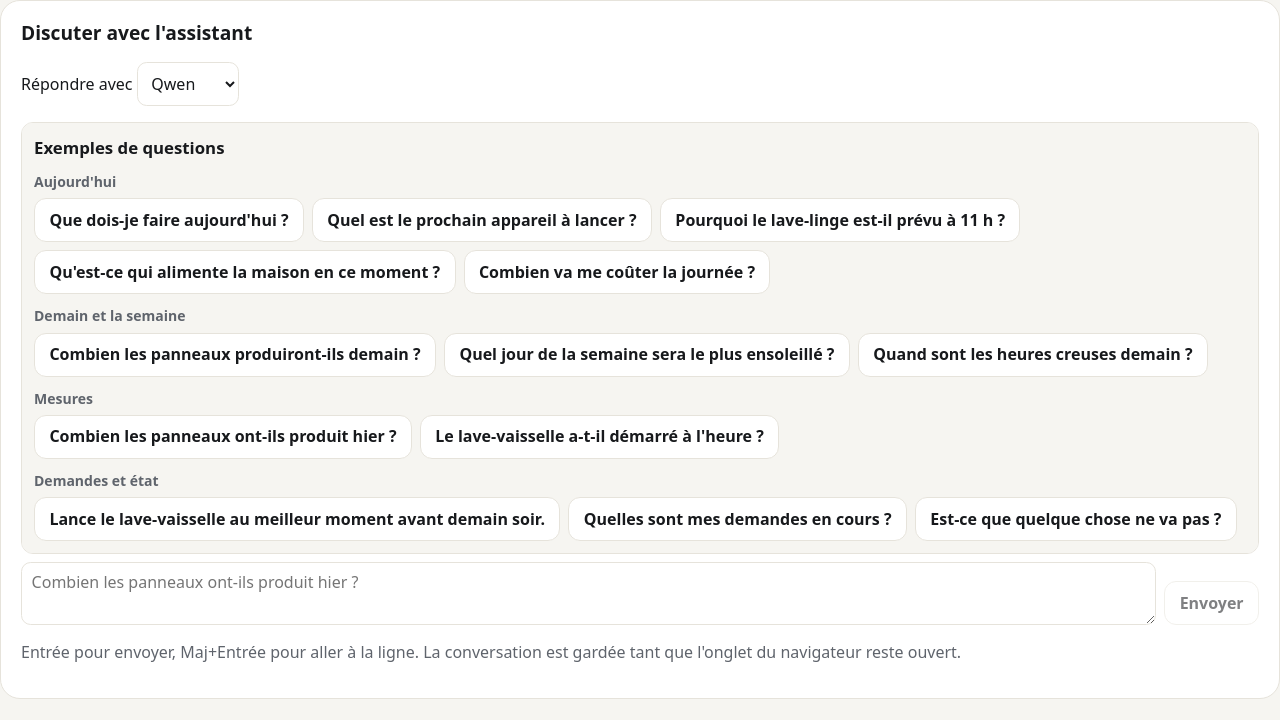
Test: discussion avec l'assistant › sans Home Assistant, Open WebUI reste possible
(page scrolled)
Check: the dropdown labelled "Répondre avec" shows "Qwen", box [137, 62, 239, 106]
Type "Bonjour" into the text box named "Votre message".
click(589, 594); type("Bonjour")  # box [21, 562, 1156, 625]
Then press Enter
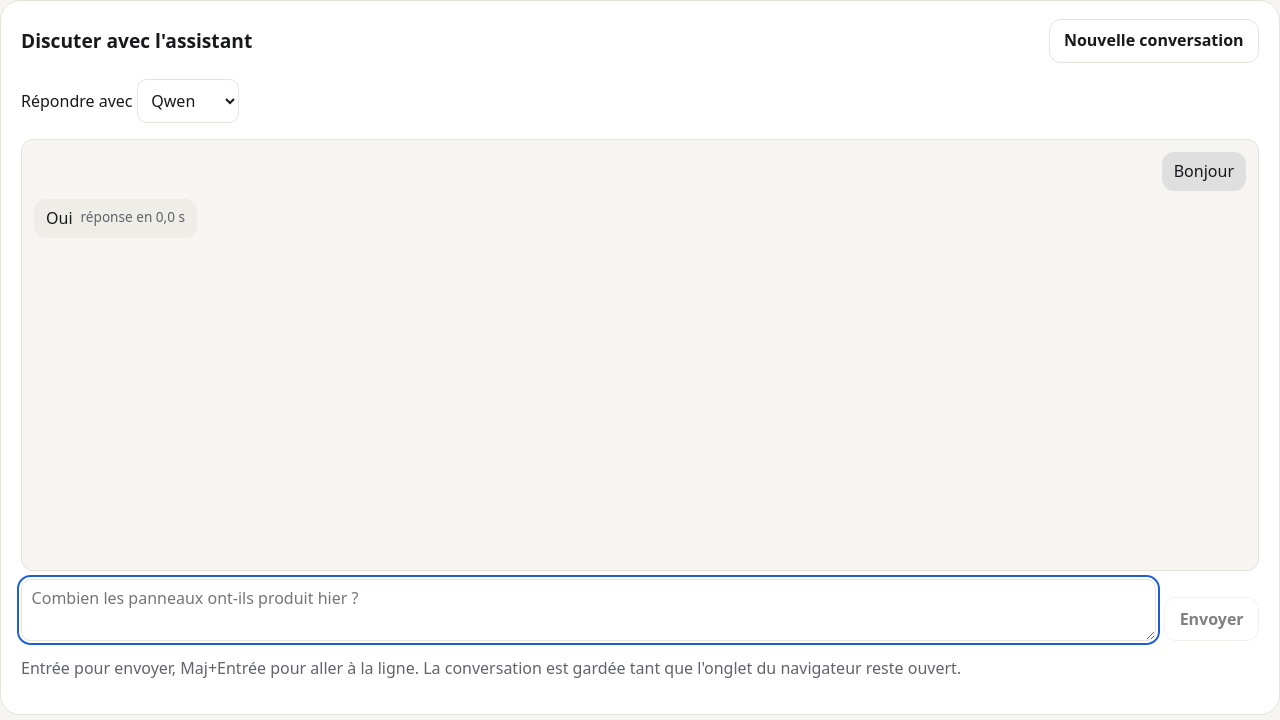
Check: the text "Oui" is shown, box [46, 207, 72, 229]
